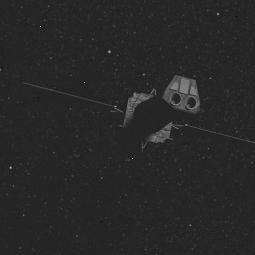xmm_newton: (35, 57, 245, 162)
